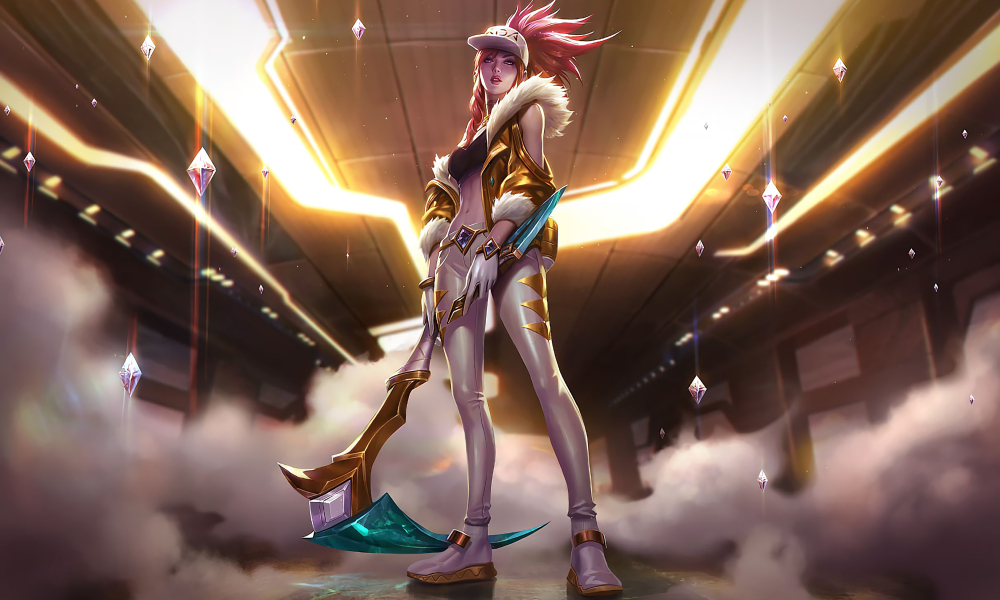face: (451, 3, 576, 107)
